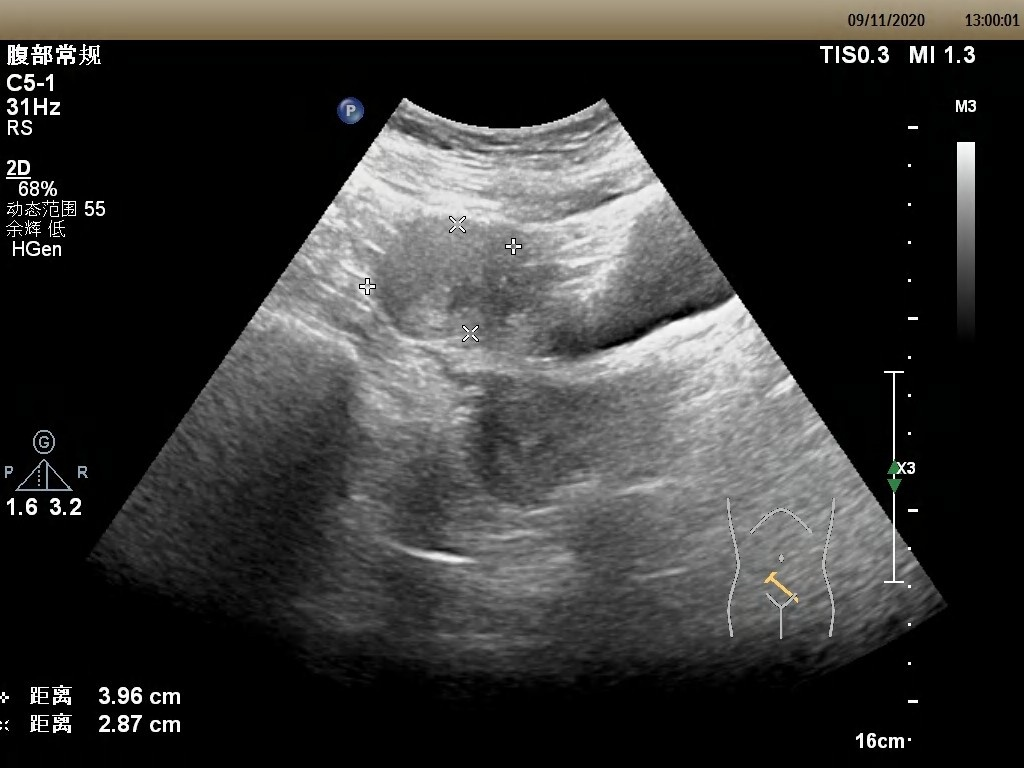肌瘤: (376, 218, 521, 339)
